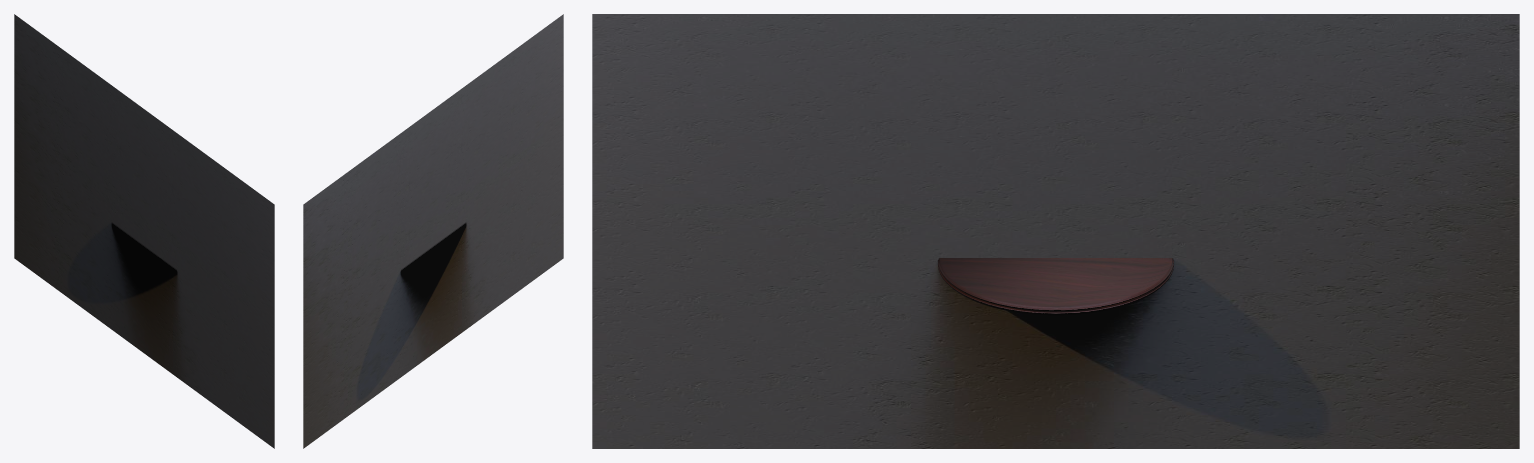
Rendered from shelf.glb.
3 views of the same model, side by side, from view 1: azimuth 30°, elevation 25°; view 2: azimuth 150°, elevation 25°; view 3: azimuth 270°, elevation 25° (orthographic). The views are drawn at different scales.
Parts seen in each view (by area): view 1: wall; view 2: wall; view 3: wall, shelf.
Boxes of the visible parts, x1,y1,x2,y2 form: wall: (14, 14, 274, 448); wall: (303, 14, 563, 448); wall: (592, 14, 1519, 448); shelf: (938, 258, 1173, 315).
Size of the model in its own units: 1.01 by 4.12 by 7.96.
Materials: 2 (2 with a texture image).
